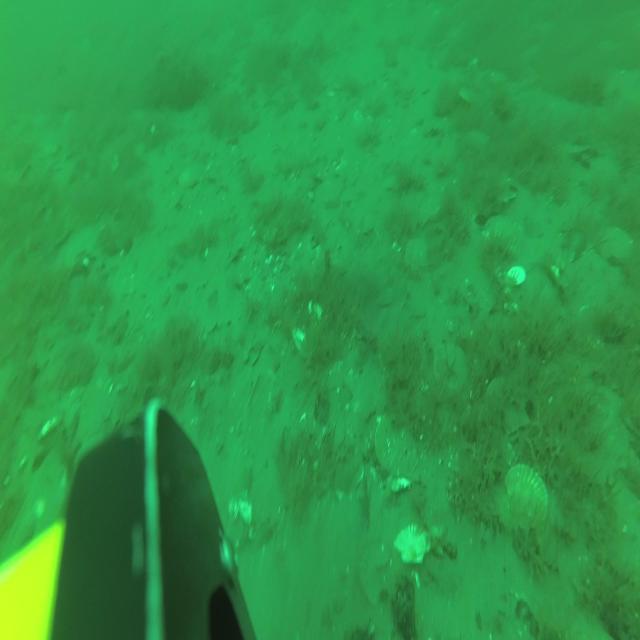scallop: (372, 408, 420, 480), (504, 457, 550, 531), (482, 373, 533, 436), (596, 217, 634, 264), (392, 522, 432, 566), (402, 233, 436, 276), (482, 210, 514, 252), (379, 160, 414, 193), (176, 160, 208, 191), (316, 176, 344, 207)
